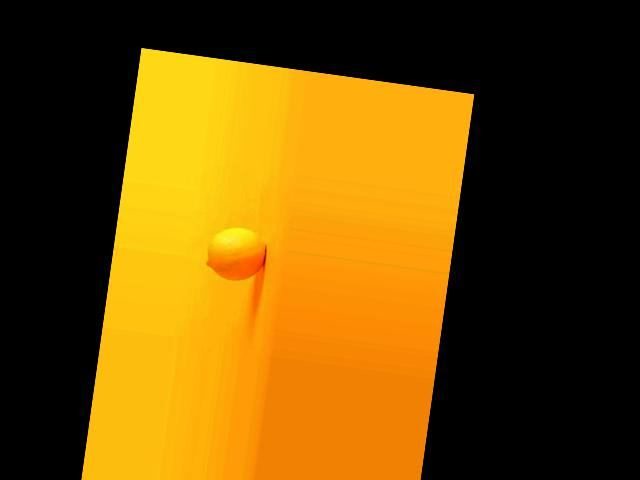lemon: (199, 213, 279, 292)
